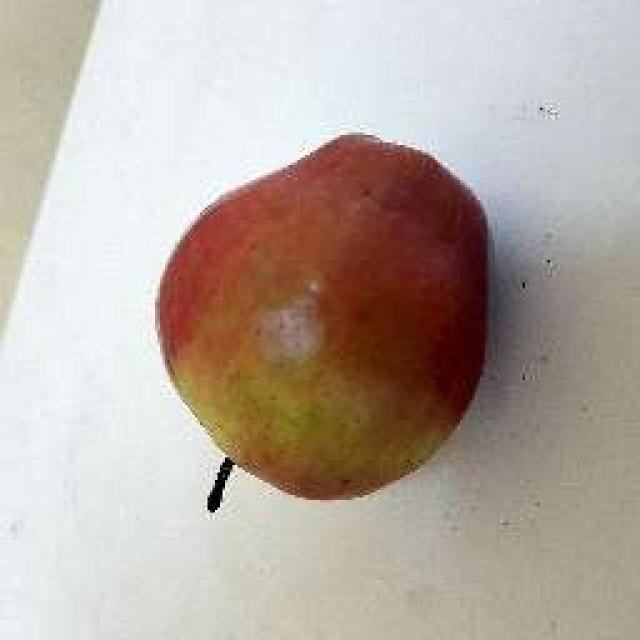Good_Apple: (155, 135, 492, 505)
